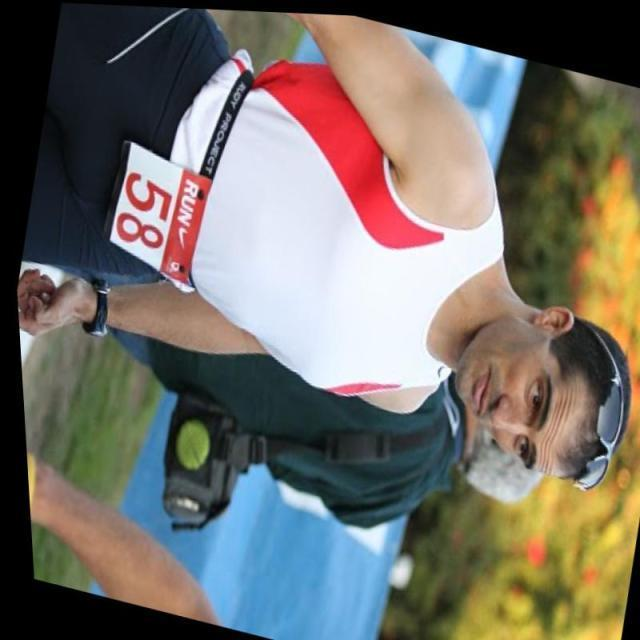dorsal: (94, 146, 217, 288)
